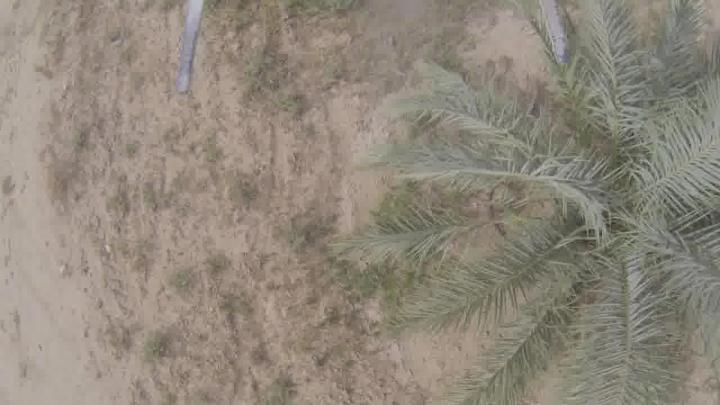Date-Palm-Crown: (506, 54, 720, 346)
